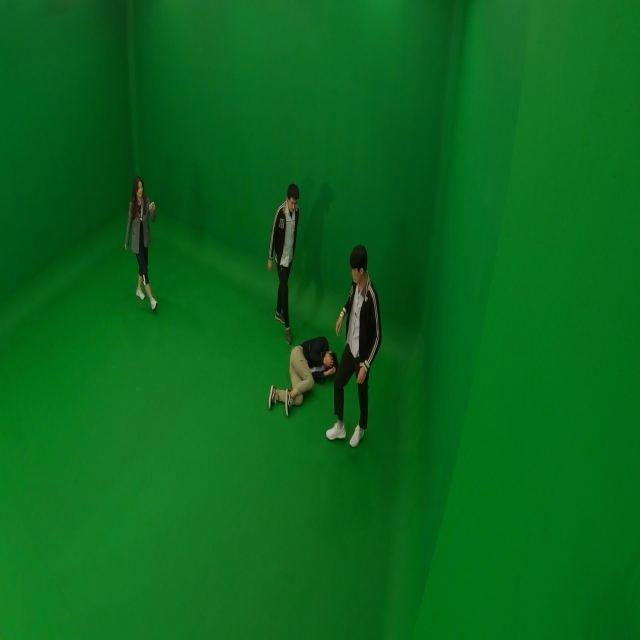fight: (325, 246, 384, 450)
non-fight: (266, 338, 333, 415), (269, 184, 299, 338), (124, 176, 158, 310)
